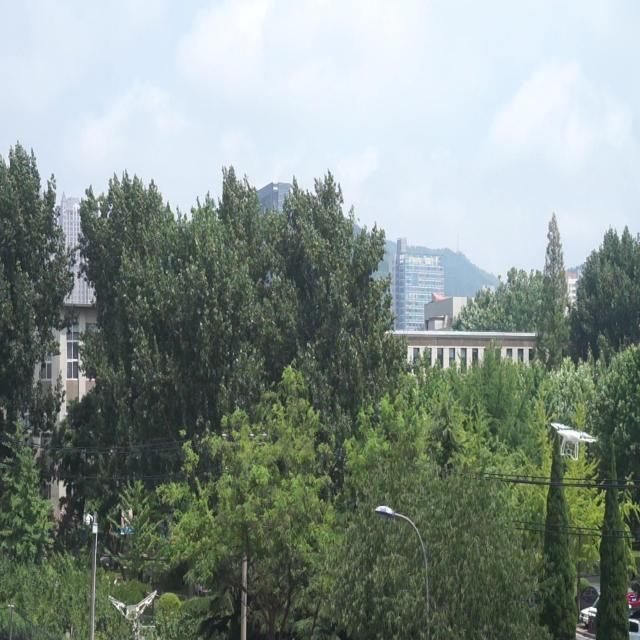UAV: (551, 422, 596, 460)
